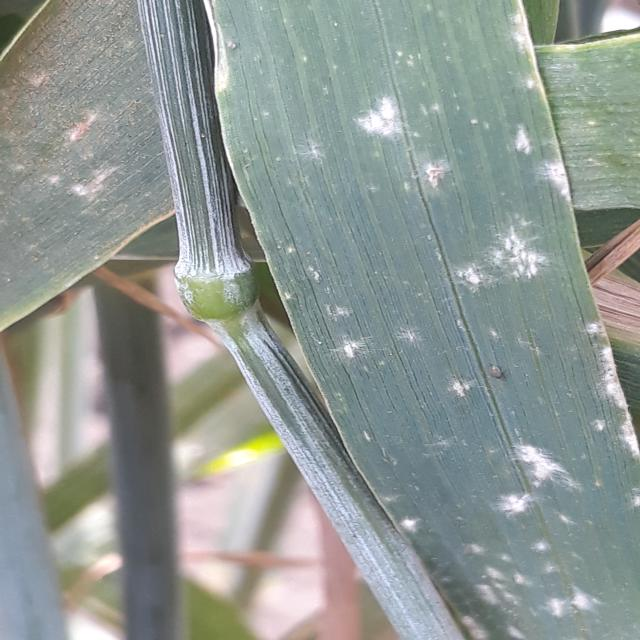powder_mildew: (190, 6, 635, 640), (0, 4, 167, 299)
